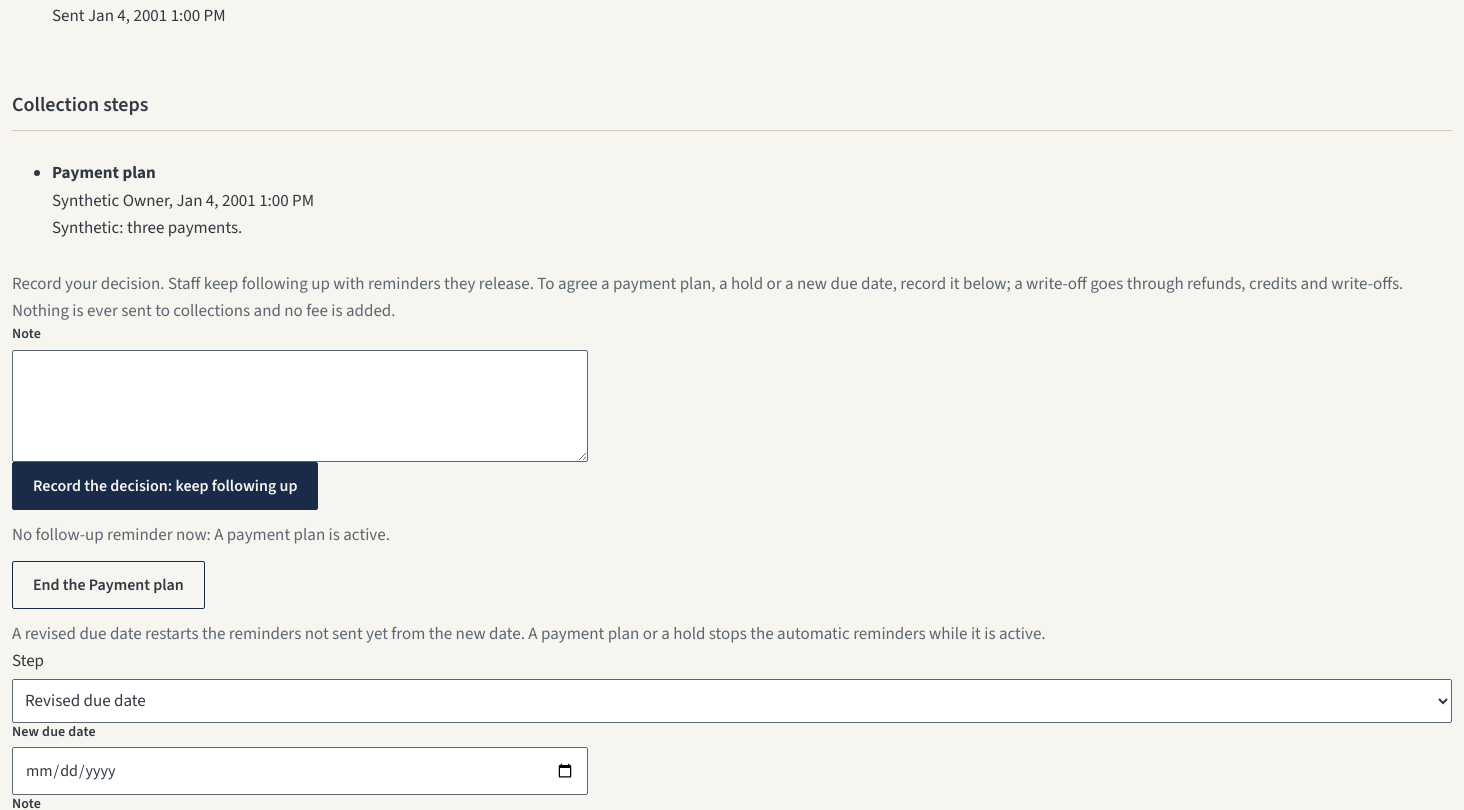
Test case: [HH-FIN-19][OWN-DEC-210] the payment reminders panel › Overdue—owner decision: the Owner records it; an active plan can be ended
(page scrolled)
Expected: the list item with test id "invoice-collection-step" shows "Synthetic: three payments.", [52,216,242,240]
Expected: the text "Nothing is ever sent to collections and no fee is added." is shown, [12,272,1403,323]
Type "Synthetic: keep following up." into the text box labelled "Note" at (300, 406), box [12,350,588,462]
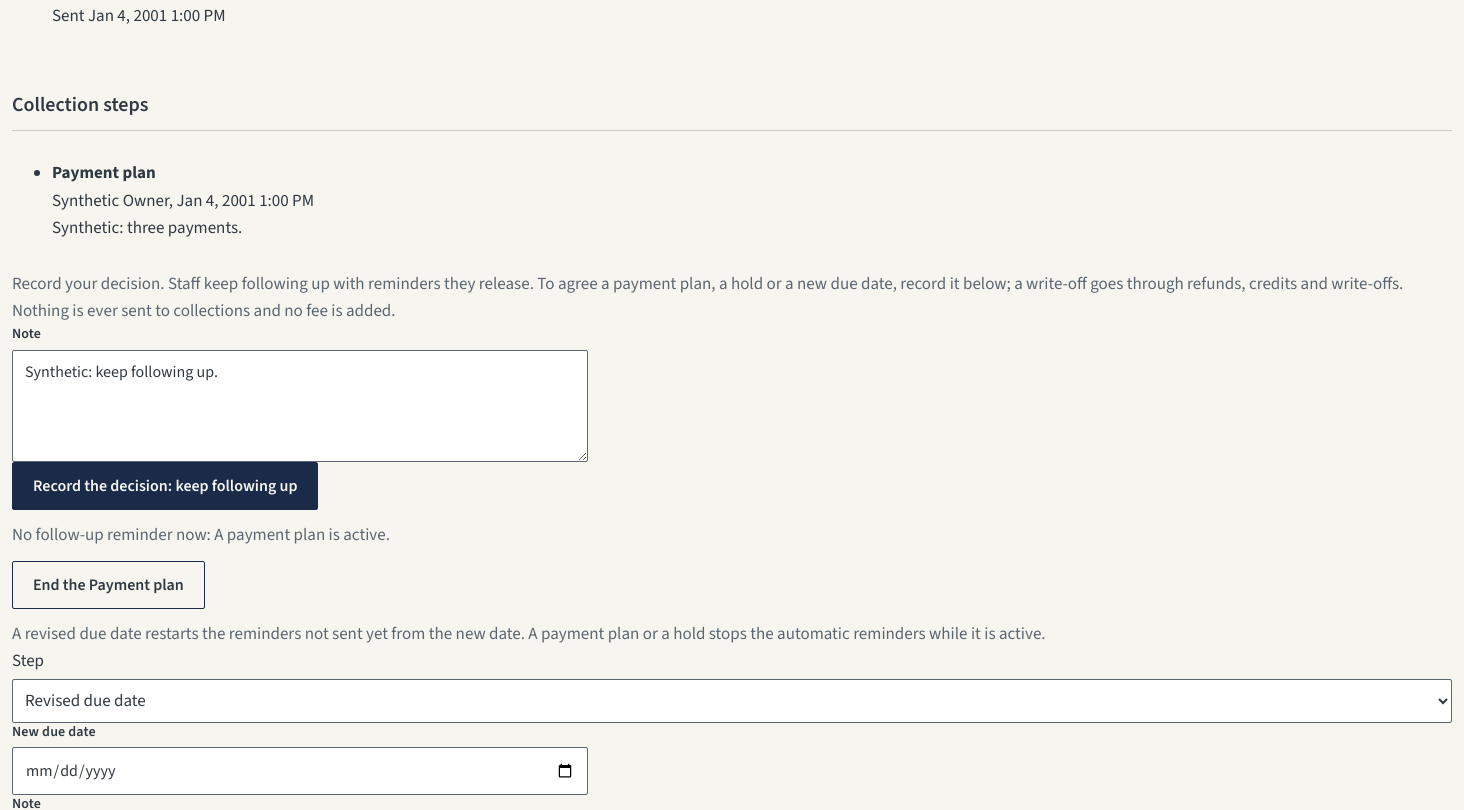
Click the button "Record the decision: keep following up" at (165, 486), box [12,462,318,510]
(page scrolled)
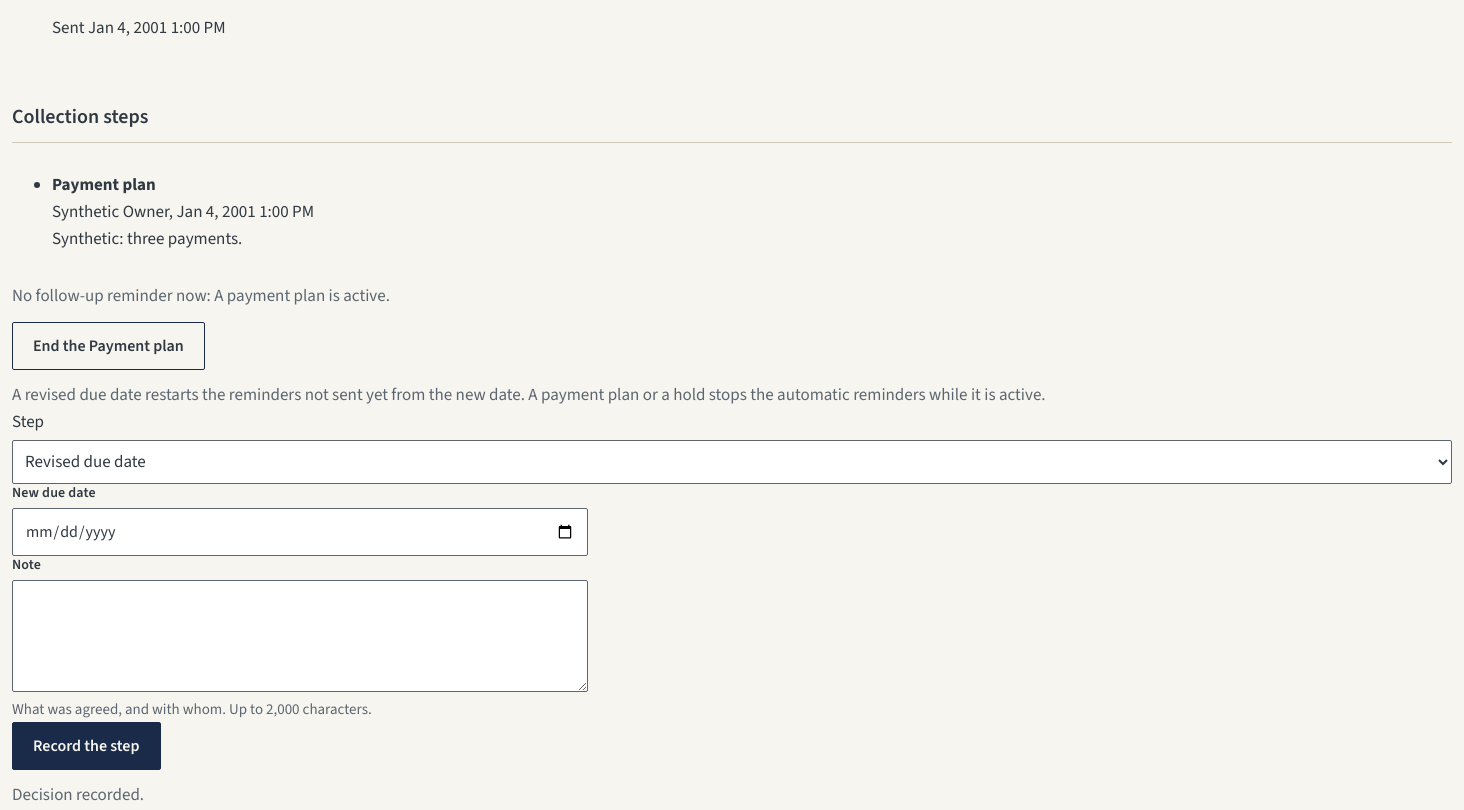
Expected: the button "End the Payment plan" is shown, [12,322,205,370]
Expected: the text "Decision recorded." is shown, [12,783,144,807]
